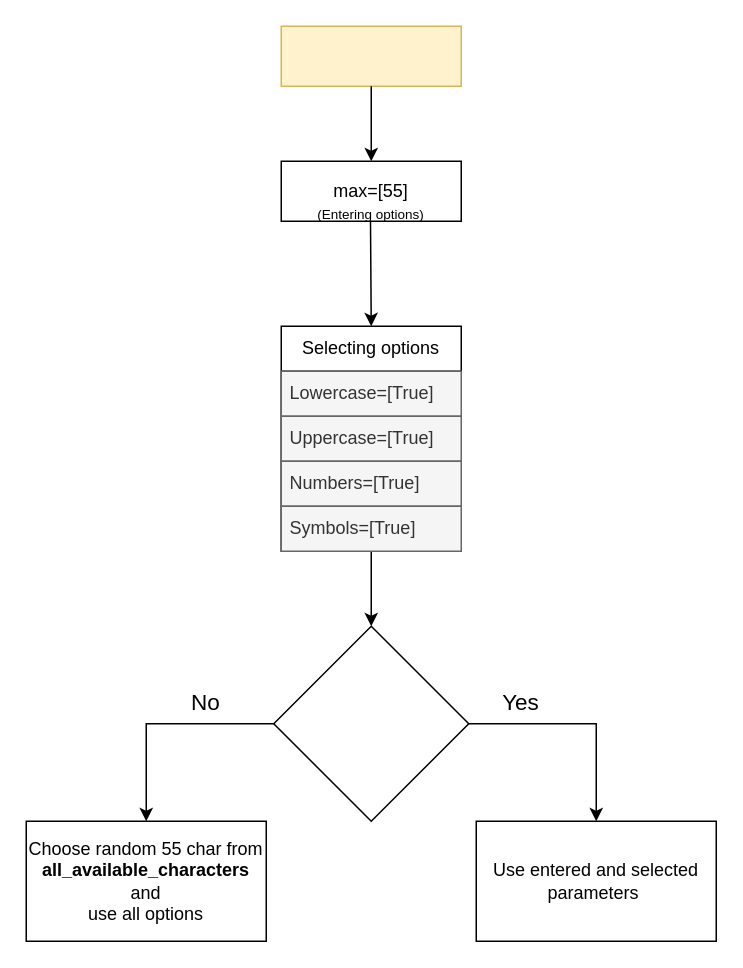
Some shapes in this 743 by 968 pixel diagram are drawn without their labels. Here are the shapes that lost their labels. From the top down, the centre of each, then its label:
the point at 370,55: User parameters
the point at 370,723: Did user change default settings?
